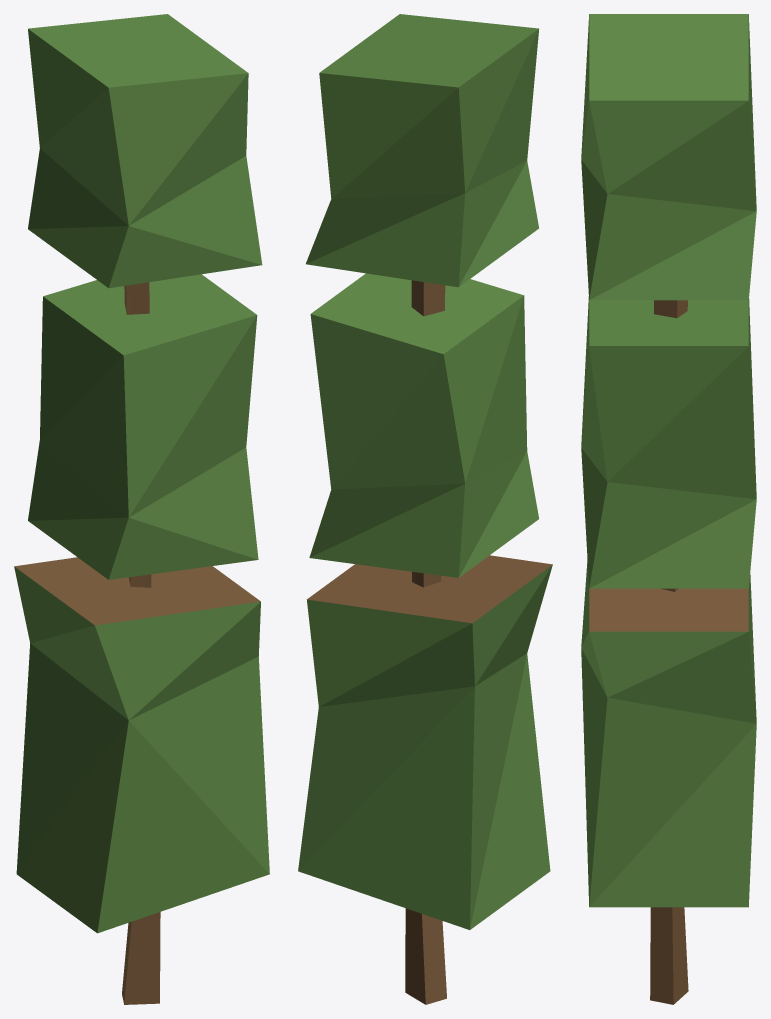
The model's file is tree3d-009.glb.
3 renders of one model, left to right at view 1: azimuth 30°, elevation 25°; view 2: azimuth 150°, elevation 25°; view 3: azimuth 270°, elevation 25°, orthographic.
Visible parts, largest first — view 1: tree3d-009; view 2: tree3d-009; view 3: tree3d-009.
Boxes of the visible parts, bbox=[...] form: tree3d-009: bbox=[14, 14, 269, 1004]; tree3d-009: bbox=[298, 14, 552, 1004]; tree3d-009: bbox=[581, 14, 756, 1004].
Bounding box in the file's own units: 0.1911 × 1 × 0.1681.
